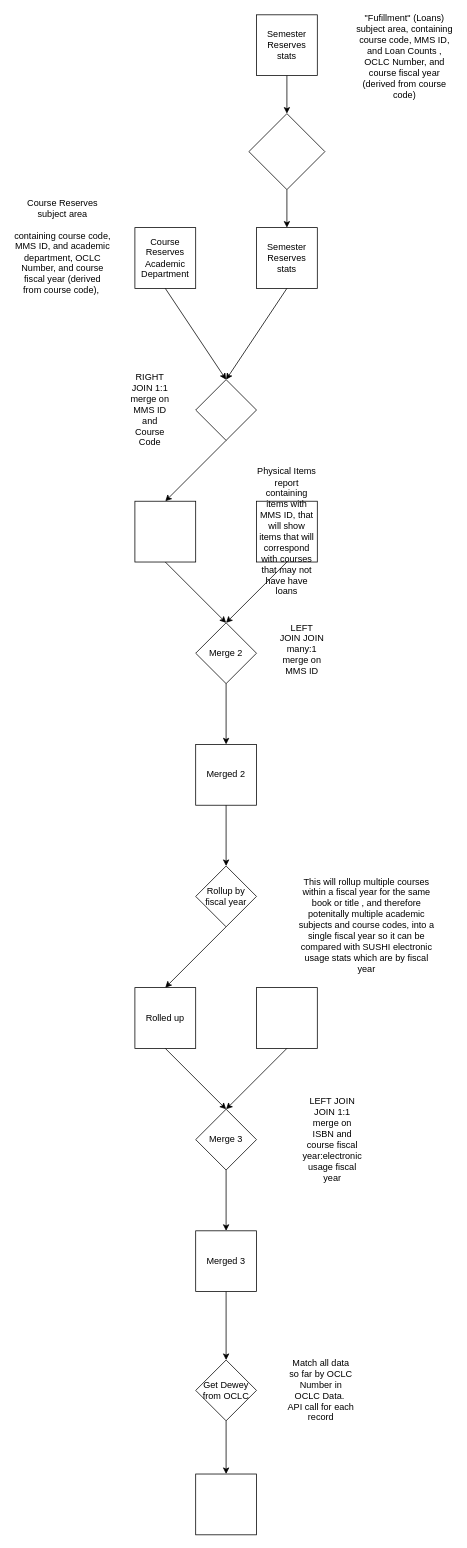
Some shapes in this 467 by 1548 pixel diagram are drawn without their labels. Here are the shapes that lost their labels. From the top down, the box of each, then its label:
(248, 113, 325, 190): Explode on multi-valued course columns
(195, 379, 256, 440): Merge
(134, 500, 196, 562): Merged 1
(256, 987, 317, 1048): SUSHI Electronic Reserves Stats
(195, 1473, 256, 1535): Final Stats
